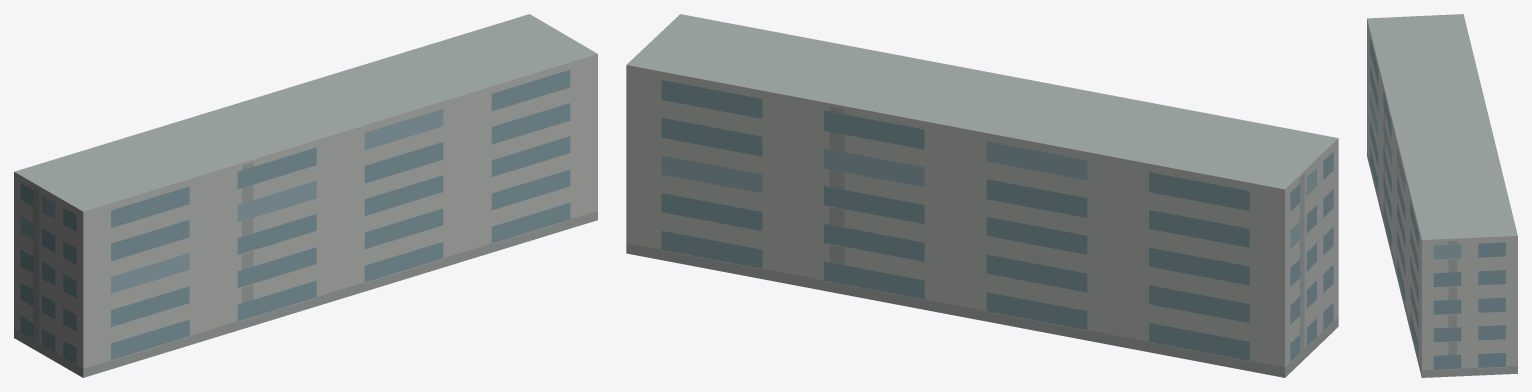
The model's file is survey-upis-32647863.glb.
The picture shows the model from 3 angles, left to right: view 1: azimuth 30°, elevation 25°; view 2: azimuth 150°, elevation 25°; view 3: azimuth 270°, elevation 25°; orthographic projection. The views are drawn at different scales.
Visible parts, largest first — view 1: survey-upis-32647863.tmp; view 2: survey-upis-32647863.tmp; view 3: survey-upis-32647863.tmp.
Part boxes in pixels (bbox=[...]): survey-upis-32647863.tmp: bbox=[14, 14, 597, 377]; survey-upis-32647863.tmp: bbox=[626, 14, 1338, 377]; survey-upis-32647863.tmp: bbox=[1367, 14, 1517, 377].
Bounding box in the file's own units: 53.63 × 15.25 × 15.13.
